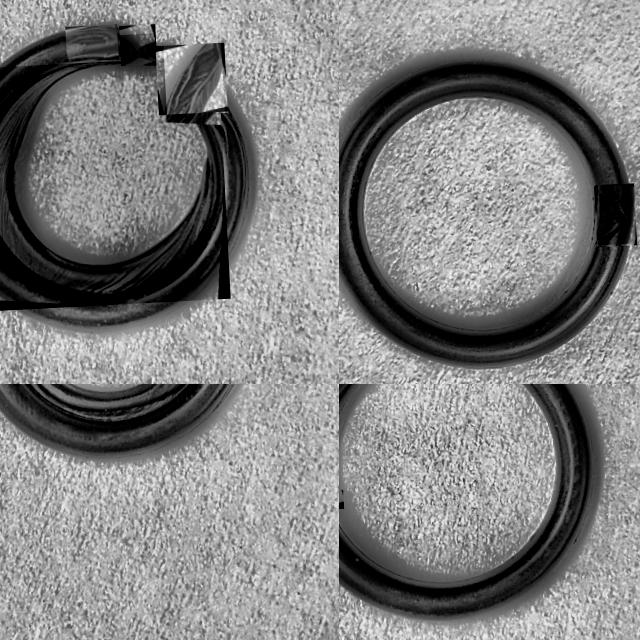切割缺陷: (167, 43, 222, 115), (597, 186, 635, 245), (66, 25, 119, 59)
挤压缺陷: (120, 36, 157, 65)
裂纹: (0, 62, 224, 305), (24, 384, 185, 421)
